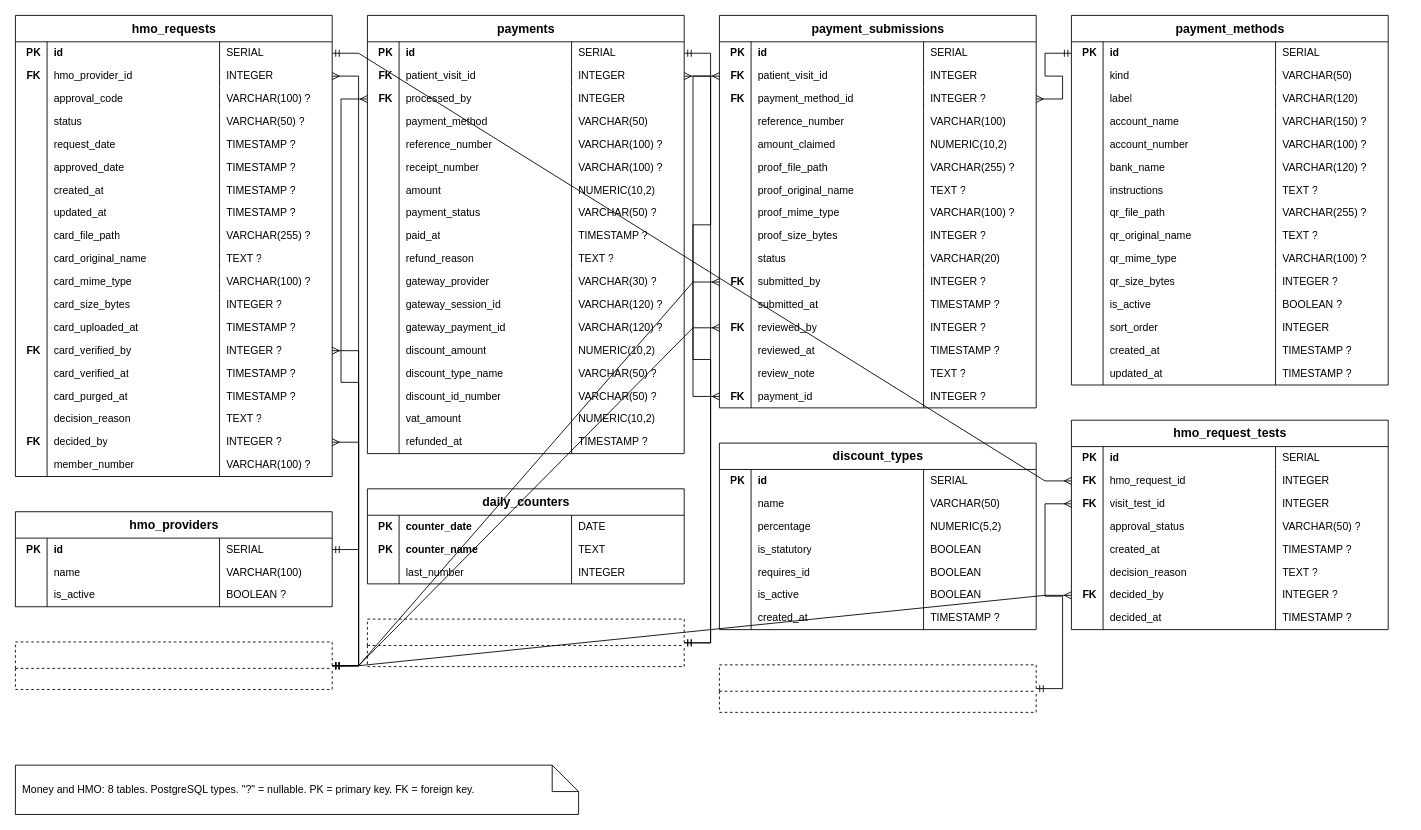
The diagram is 1421 pixels wide and 830 high, and some of its shapes have lost their labels. The centre of each missing label's shape, as x and y in pixels:
patient_visits (see the other sheet): the point at 525,642
users (see the other sheet): the point at 173,665
visit_tests (see the other sheet): the point at 877,688
